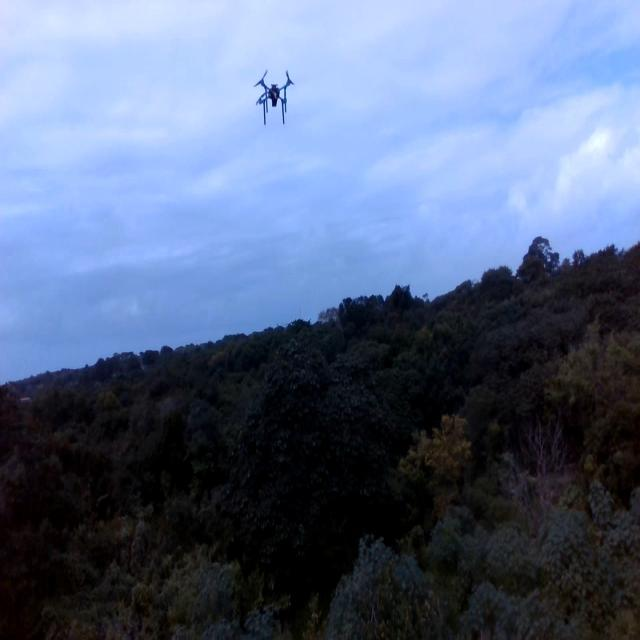-uav-: (241, 52, 316, 148)
